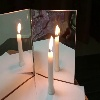fire: (49, 35, 54, 55)
